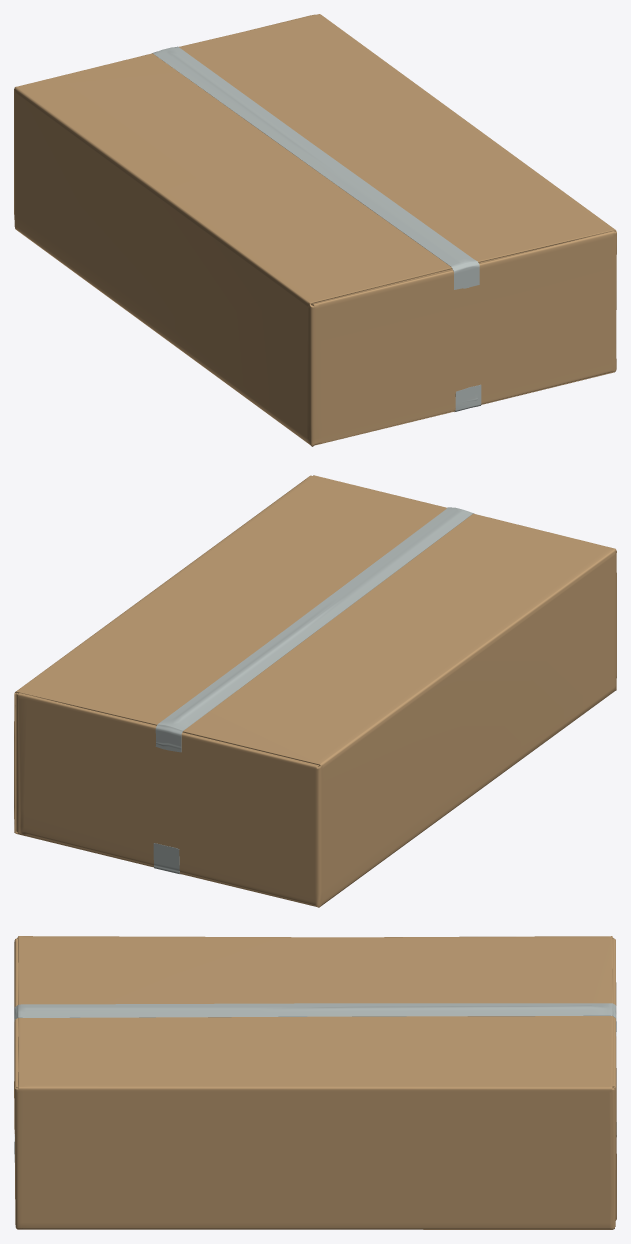
The model's file is box_flat_a13.glb.
3 renders of one model, top to bottom at view 1: azimuth 30°, elevation 25°; view 2: azimuth 150°, elevation 25°; view 3: azimuth 270°, elevation 25°, orthographic.
Bounding box in the file's own units: 0.3616 × 0.1654 × 0.6096.
